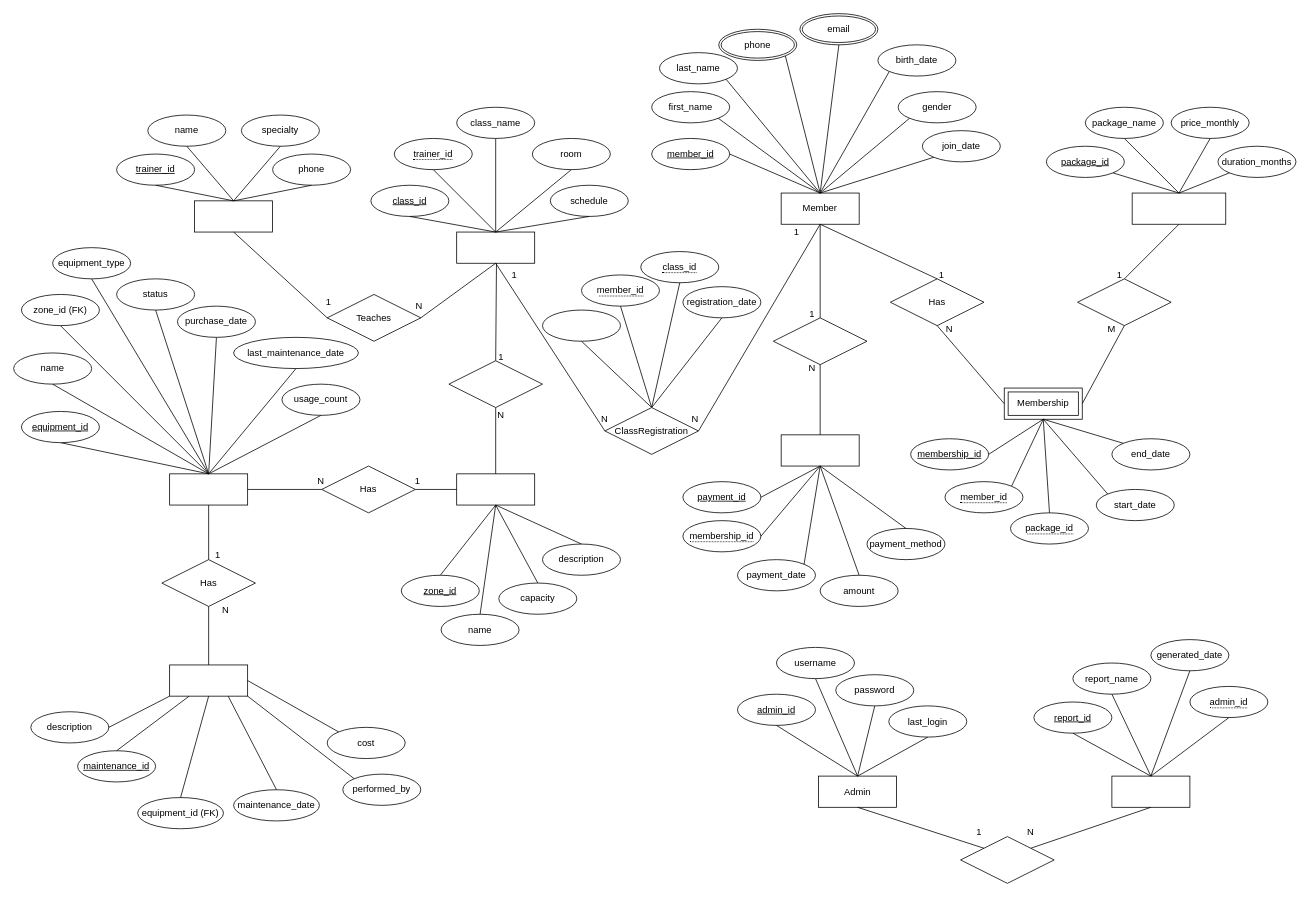
Image size: 1310x897. Some labels were removed from this diagram. The centre of each missing label's shape, as x and y in pixels:
Class: the point at 495,247
Equipment: the point at 208,489
GymZones: the point at 495,489
Held_in: the point at 495,384
Includes: the point at 1124,302
Logs: the point at 1007,859
Maintenance: the point at 208,680
Makes: the point at 820,341
MembershipPackage: the point at 1178,208
Payment: the point at 819,450
registration_id: the point at 581,325
Reports: the point at 1150,791
Trainer: the point at 233,216
